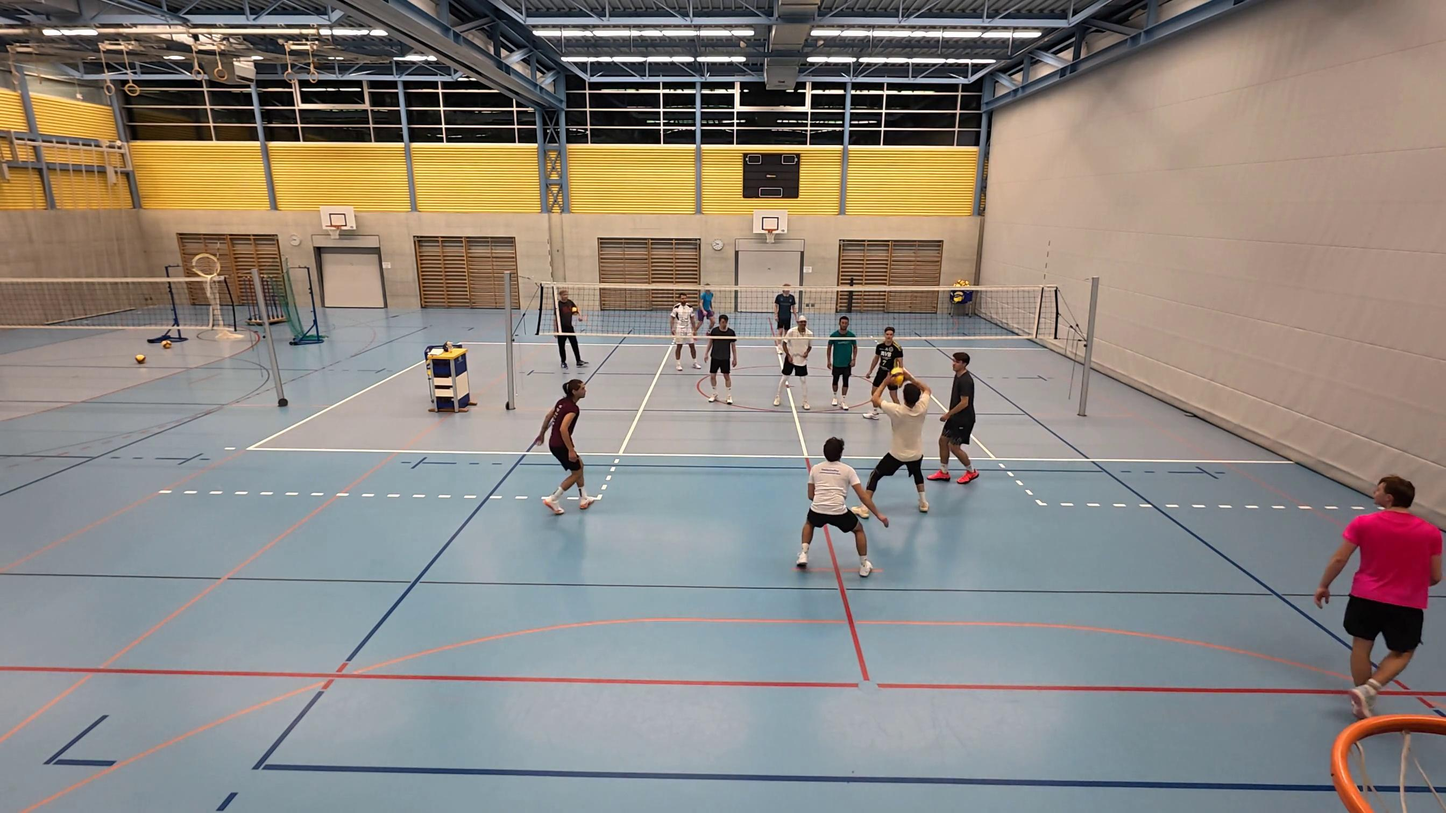Player: (1316, 476, 1444, 718), (795, 437, 888, 577), (530, 380, 596, 514), (926, 352, 979, 483), (861, 326, 905, 418), (823, 315, 861, 411), (699, 313, 738, 405), (775, 316, 814, 407), (668, 294, 699, 370), (773, 282, 796, 351), (696, 287, 717, 333)
Receive: (860, 376, 941, 515)
ball: (887, 366, 908, 384)
